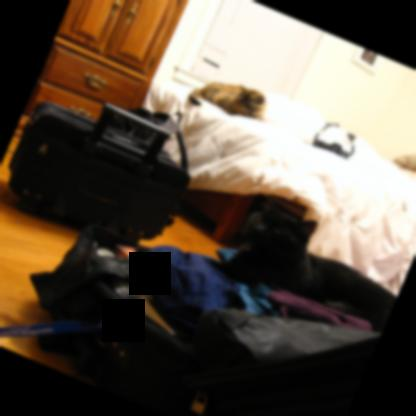suitcase: (19, 228, 399, 416), (6, 101, 189, 243)
